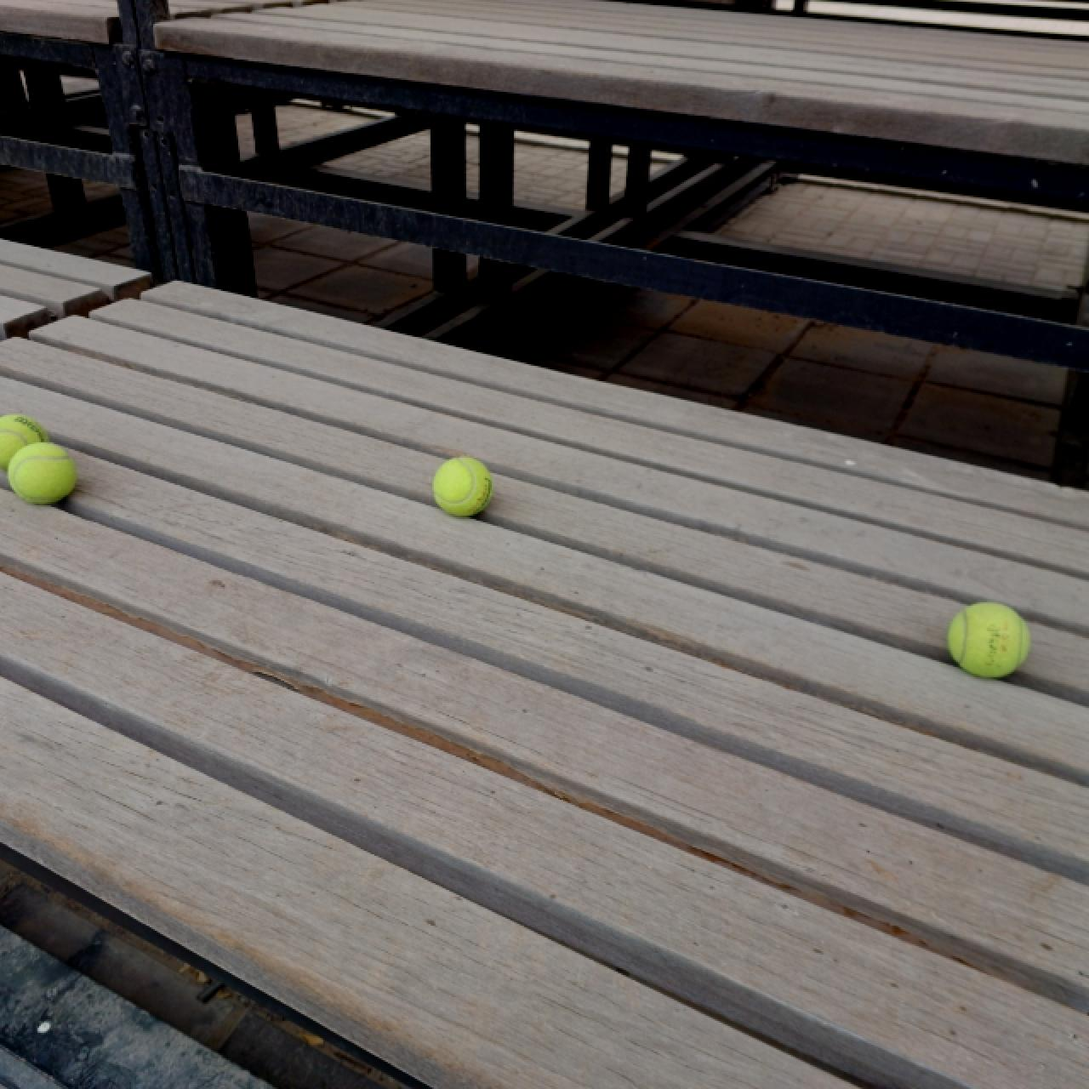tennis-ball: (947, 603, 1029, 677), (8, 439, 79, 504), (432, 455, 497, 517), (0, 410, 53, 475)
